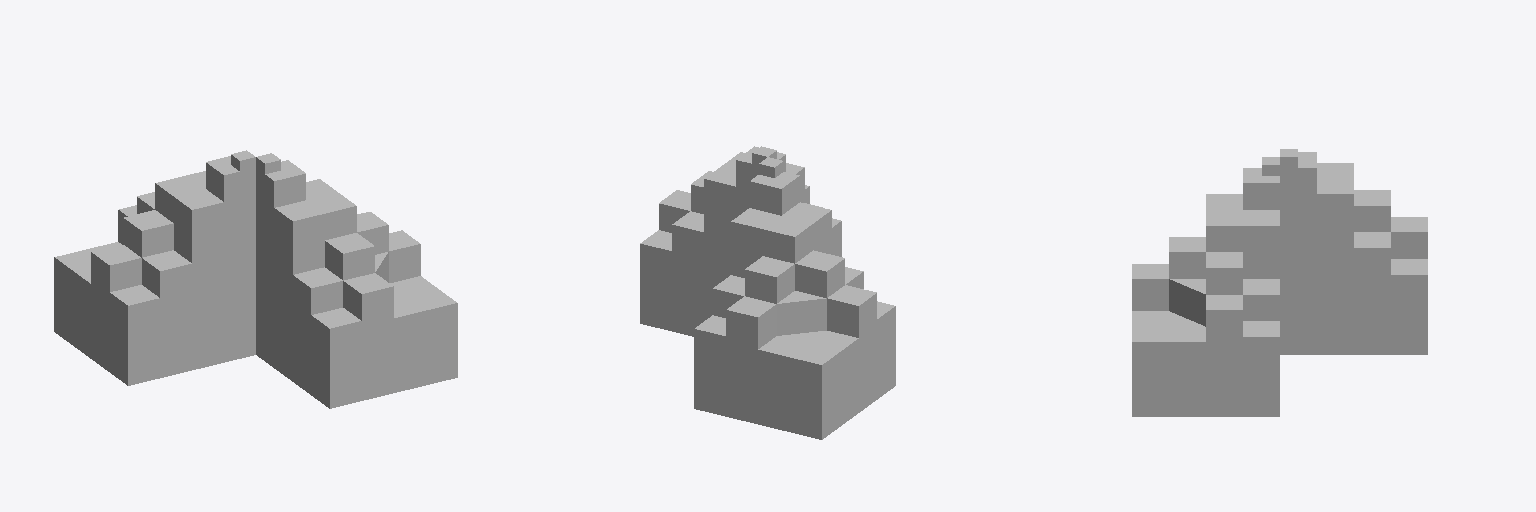
File: obstacle.obj
3 renders of one model, left to right at view 1: azimuth 30°, elevation 25°; view 2: azimuth 150°, elevation 25°; view 3: azimuth 270°, elevation 25°, orthographic.
Parts seen in each view (by area): view 1: Plane.002; view 2: Plane.002; view 3: Plane.002.
Part boxes in pixels (left/top/right/bottom): Plane.002: left=54, top=150, right=457, bottom=408; Plane.002: left=640, top=146, right=895, bottom=439; Plane.002: left=1132, top=149, right=1427, bottom=416.
Size of the model in its own units: 1 by 0.74 by 1.